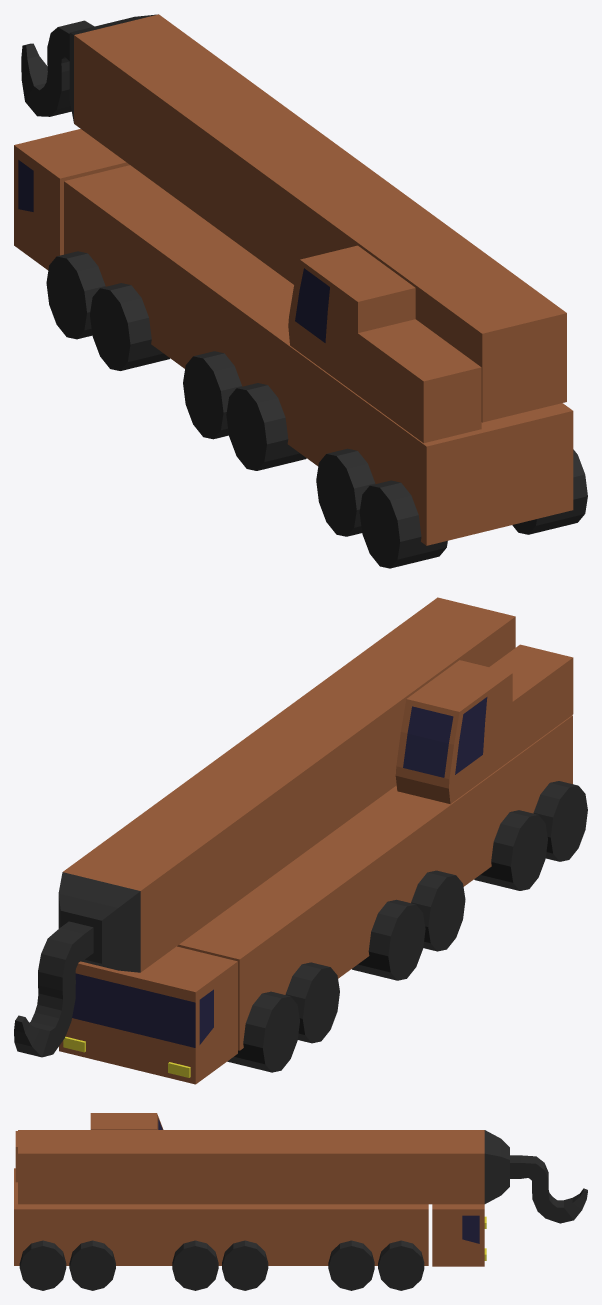
File: Kran.glb
3 renders of one model, top to bottom at view 1: azimuth 30°, elevation 25°; view 2: azimuth 150°, elevation 25°; view 3: azimuth 270°, elevation 25°, orthographic. The views are drawn at different scales.
Visible parts, largest first — view 1: Cube.004; view 2: Cube.004; view 3: Cube.004.
Part boxes in pixels (x1=…): Cube.004: x1=14, y1=14, x2=587, y2=568; Cube.004: x1=14, y1=597, x2=587, y2=1084; Cube.004: x1=14, y1=1113, x2=587, y2=1290.
Size of the model in its own units: 3.89 by 4.53 by 17.99.
